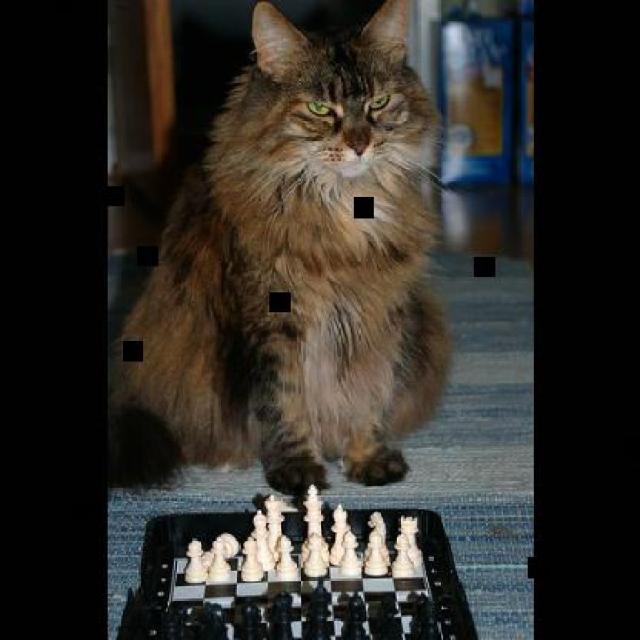unauthorized: (107, 0, 452, 495)
